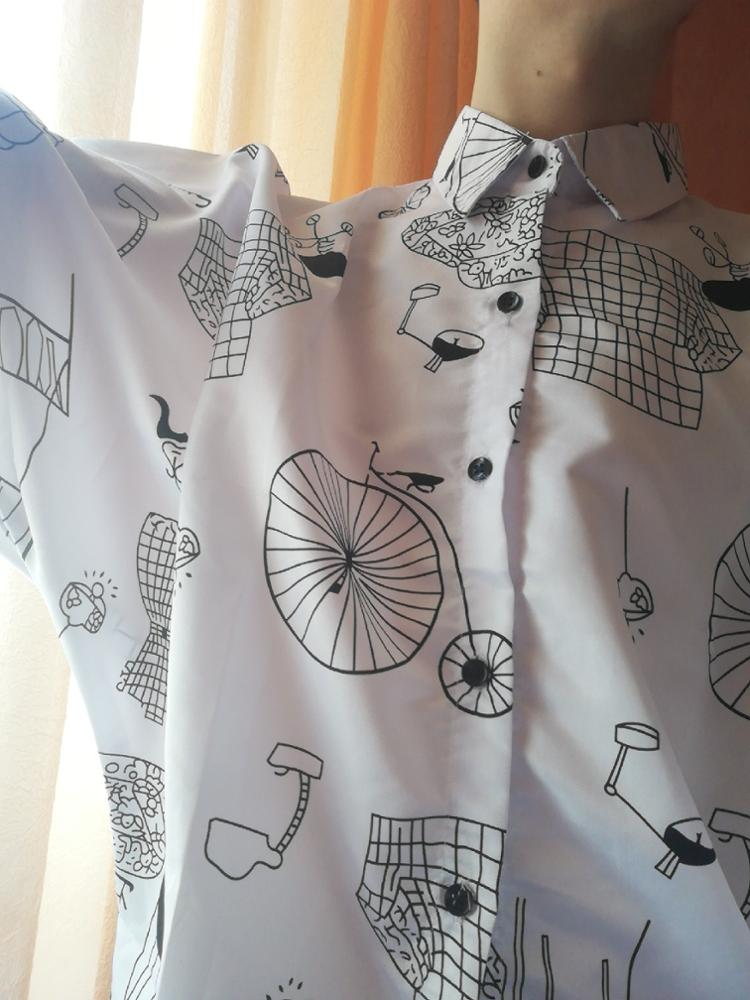shirts: (2, 69, 750, 982)
